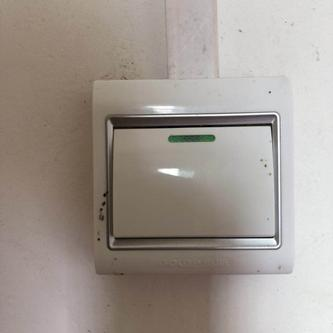switch: (103, 108, 284, 253)
